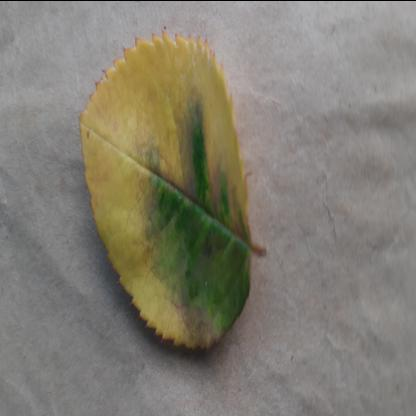black-spot: (82, 31, 250, 368)
